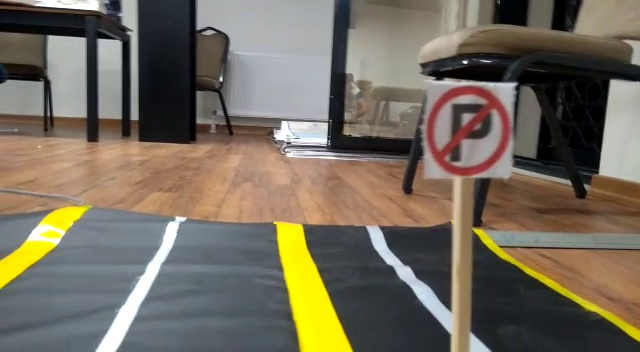park_yapilmaz: (425, 80, 510, 176)
